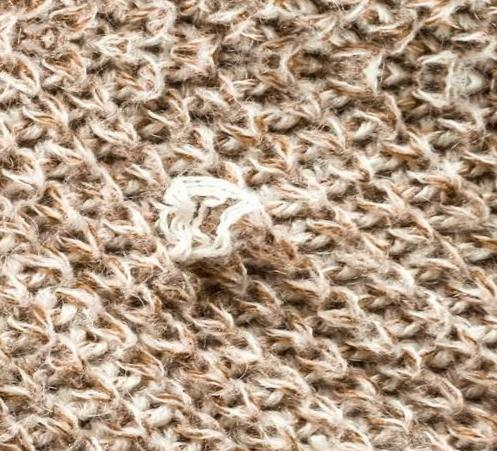snag: (160, 163, 282, 281)
